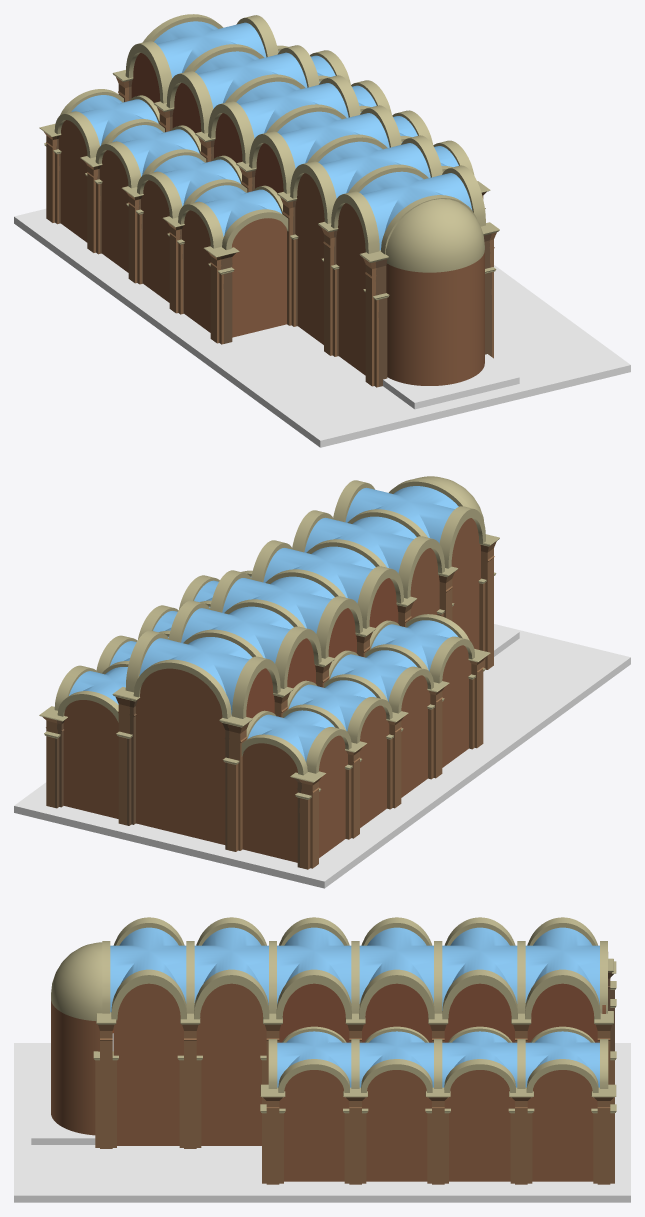
Rendered from ChiesaPaveseFinale.fbx.
3 views of the same model, one above another, from view 1: azimuth 30°, elevation 25°; view 2: azimuth 150°, elevation 25°; view 3: azimuth 270°, elevation 25° (orthographic).
Parts seen in each view (by area): view 1: pavimento, fondo chiesa, muro fine navate laterale, abside superiore esterna, muro navata centrale 6, muro navata centrale 5, Colonne 7, Volta 6, Volta 2, Volta 1, Volta 3, Volta 4 (+39 smaller); view 2: pavimento, muro ingresso, muro ingresso navate, Colonne 1, Colonne esterne 1, Volta 1, Volte esterne 1, Volta 6, Volta 2, Volta 3, Volta 5, Volta 4 (+40 smaller); view 3: pavimento, muro navata centrale 6, muro navata centrale 5, muro esterno navate 2, muro esterno navate 3, muro esterno navate 1, muro esterno navate 4, fondo chiesa, Volta 6, Volta 2, Volta 1, Volta 5 (+45 smaller).
Boxes of the visible parts, box(x1,y1,x2,y2) form: pavimento: box(14, 208, 630, 447); fondo chiesa: box(386, 250, 484, 385); muro fine navate laterale: box(231, 218, 286, 337); abside superiore esterna: box(385, 199, 484, 272); muro navata centrale 6: box(336, 203, 365, 375); muro navata centrale 5: box(295, 173, 324, 344); Colonne 7: box(363, 232, 496, 387); Volta 6: box(359, 171, 472, 250); Volta 2: box(195, 51, 307, 108); Volta 1: box(154, 21, 266, 77); Volta 3: box(236, 81, 348, 138); Volta 4: box(277, 111, 389, 168); pavimento: box(14, 624, 630, 888); muro ingresso: box(136, 668, 225, 844); muro ingresso navate: box(63, 700, 297, 862); Colonne 1: box(115, 697, 249, 851); Colonne esterne 1: box(43, 717, 321, 869); Volta 1: box(139, 637, 252, 714); Volte esterne 1: box(69, 667, 334, 762); Volta 6: box(345, 486, 458, 543); Volta 2: box(181, 606, 293, 663); Volta 3: box(222, 576, 334, 633); Volta 5: box(304, 516, 416, 573); Volta 4: box(263, 546, 375, 603); pavimento: box(14, 1043, 630, 1202); muro navata centrale 6: box(113, 983, 183, 1145); muro navata centrale 5: box(196, 983, 266, 1145); muro esterno navate 2: box(444, 1070, 514, 1181); muro esterno navate 3: box(362, 1070, 431, 1181); muro esterno navate 1: box(527, 1070, 597, 1181); muro esterno navate 4: box(279, 1070, 349, 1181); fondo chiesa: box(51, 1001, 99, 1135); Volta 6: box(110, 927, 186, 1012); Volta 2: box(442, 927, 517, 1010); Volta 1: box(525, 927, 599, 1004); Volta 5: box(194, 927, 268, 1004).
Bounding box in the file's own units: 5682 × 3127 × 9709.
Materials: 9 (4 with a texture image).
